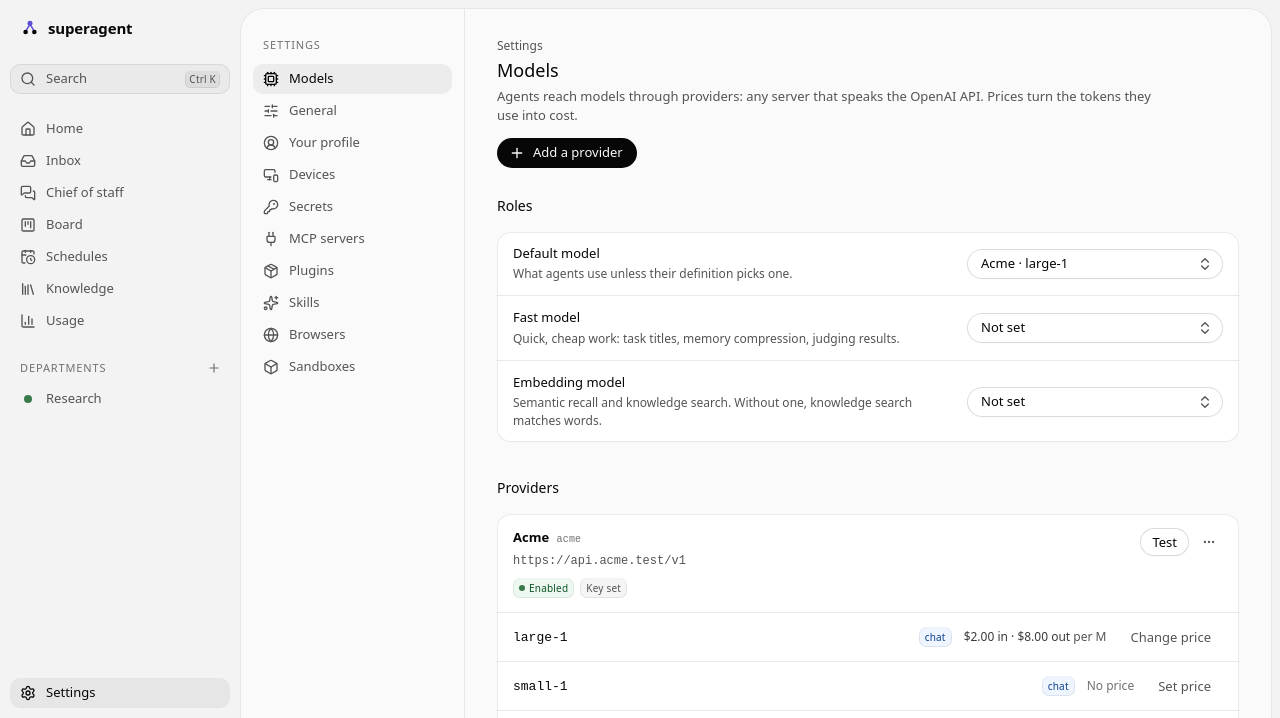
Scenario: models › removes a price, and each model’s dialog starts from its own price
Step 1. Click the button with aria-label "Change price of large-1" → {"x": 1171, "y": 637}, box x1=1118 y1=623 x2=1223 y2=651
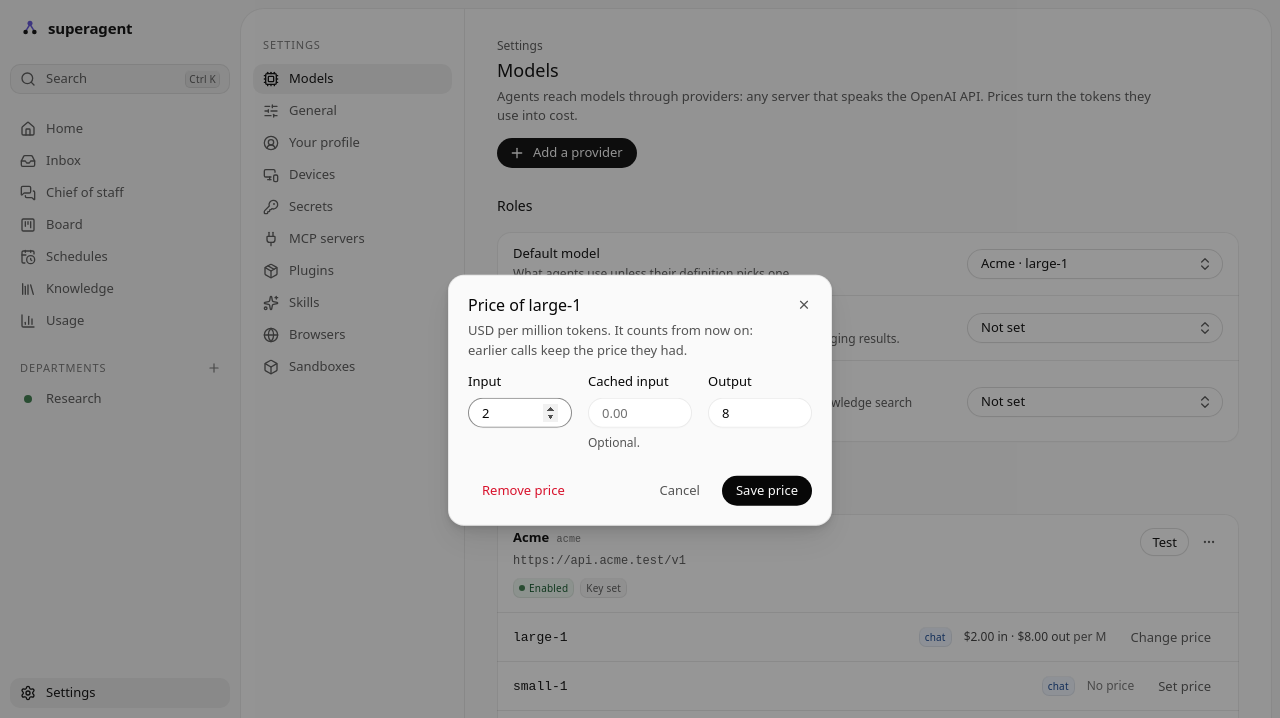
Check: the number field labelled "Input" holds "2", box x1=468 y1=397 x2=572 y2=427
Check: the number field labelled "Output" holds "8", box x1=708 y1=397 x2=812 y2=427
Step 2. Click the button "Cancel" → {"x": 680, "y": 490}, box x1=646 y1=475 x2=714 y2=505
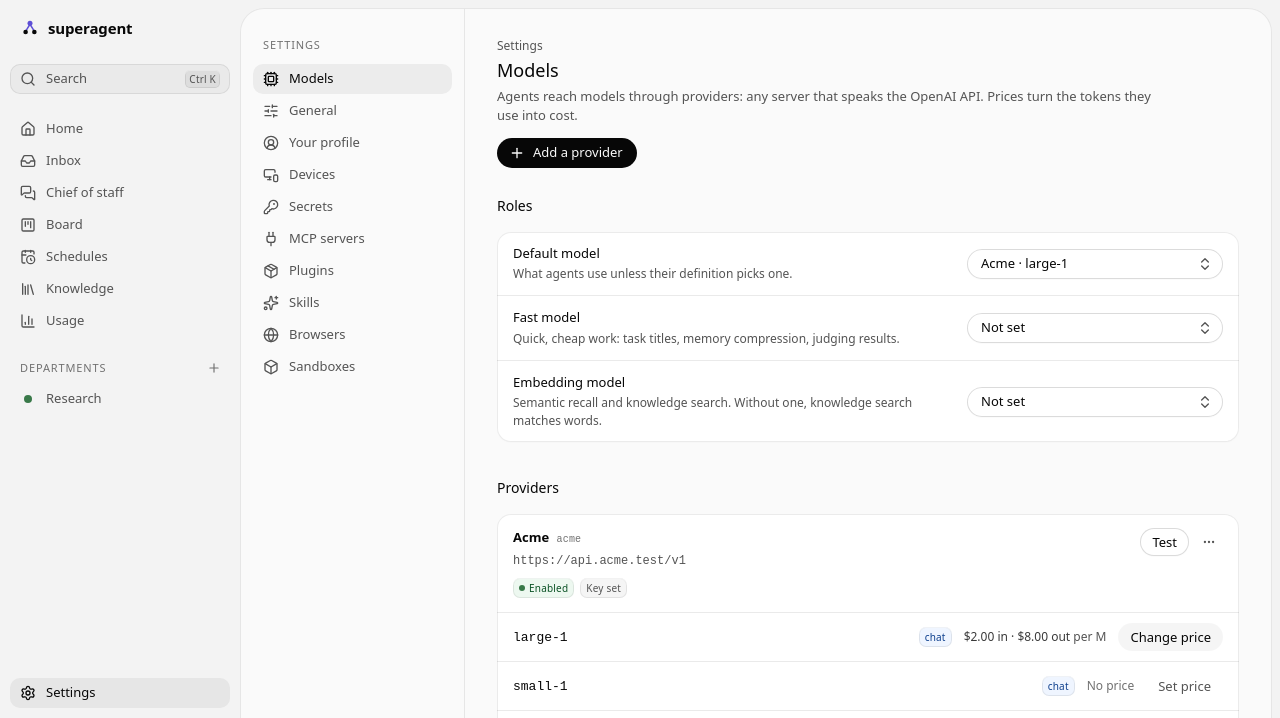
Check: the dialog is gone
Step 3. Click the button with aria-label "Set price of small-1" → {"x": 1185, "y": 686}, box x1=1146 y1=672 x2=1223 y2=700
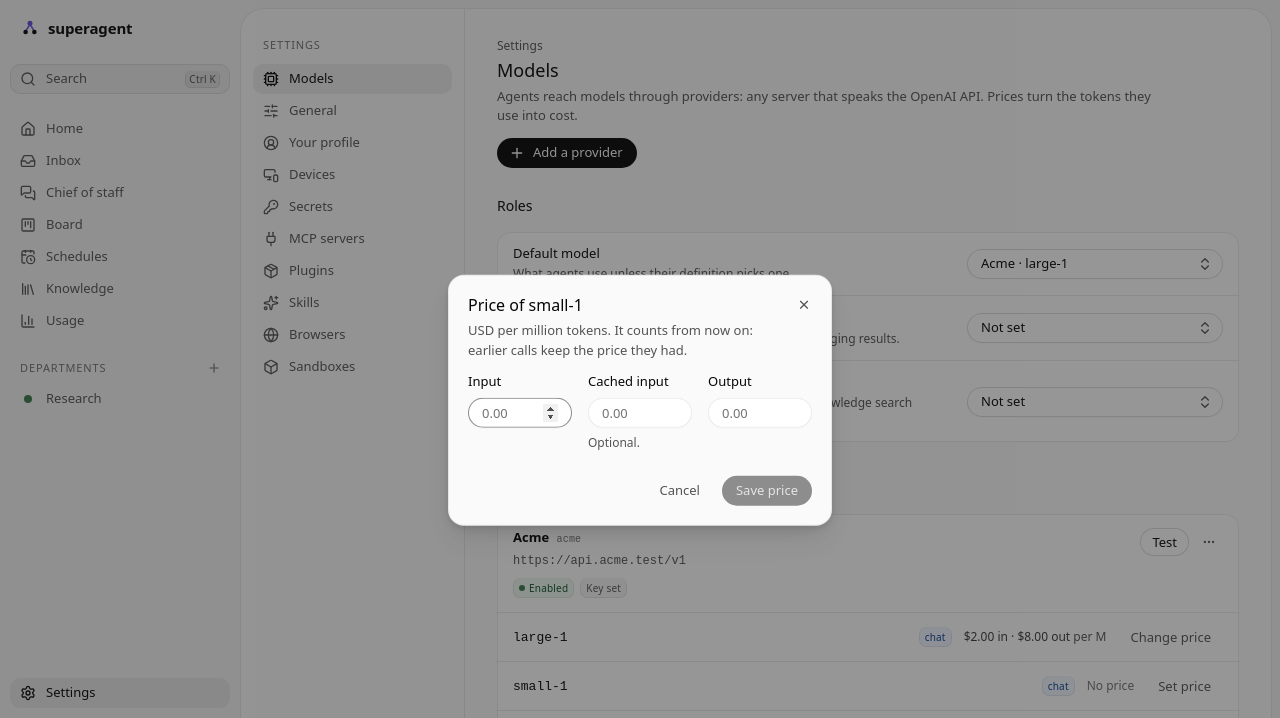
Check: the button "Remove price" is not shown
Check: the number field labelled "Input" is not empty, box x1=468 y1=397 x2=572 y2=427
Step 4. Click the button "Cancel" → {"x": 680, "y": 490}, box x1=646 y1=475 x2=714 y2=505
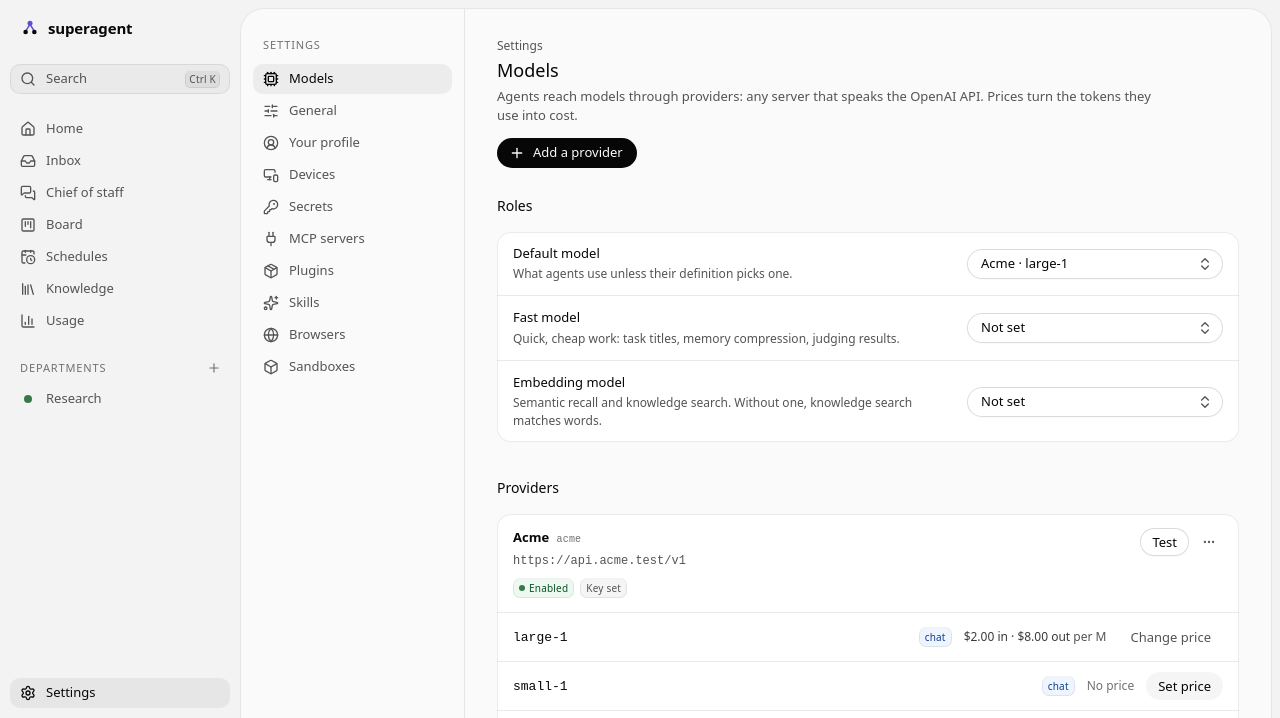
Check: the dialog is gone
Step 5. Click the button with aria-label "Change price of large-1" → {"x": 1171, "y": 637}, box x1=1118 y1=623 x2=1223 y2=651
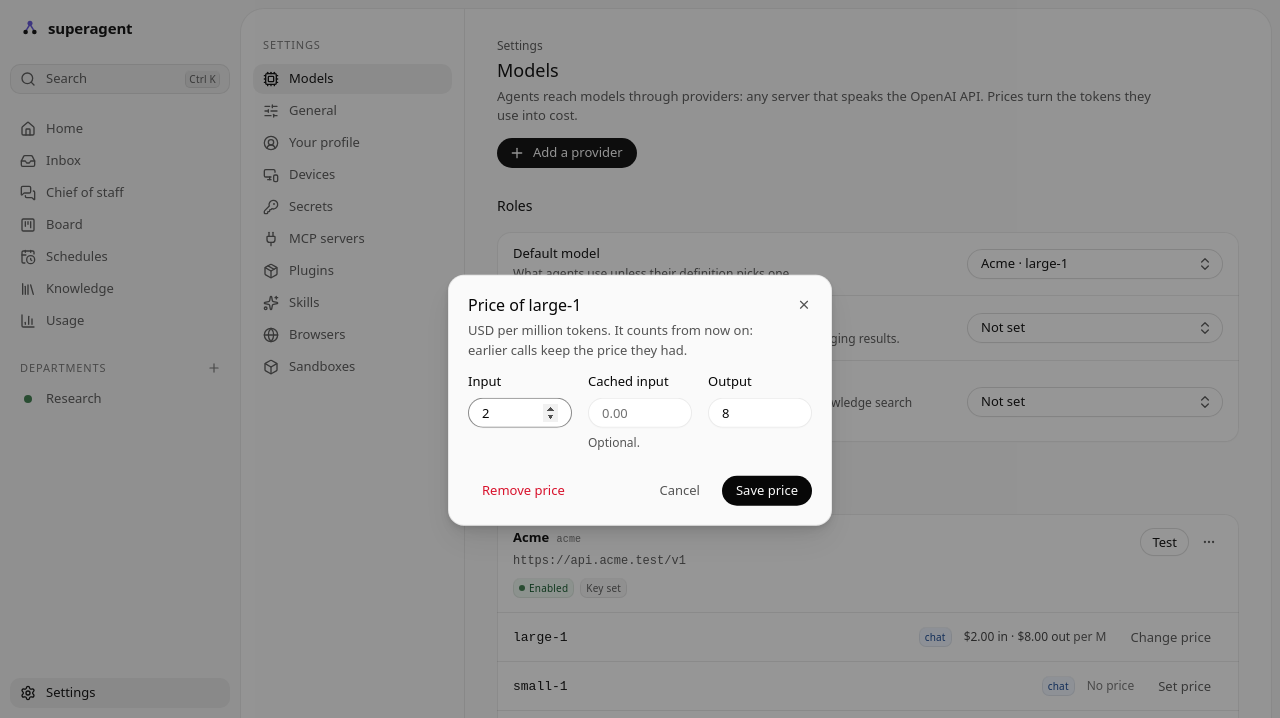
Step 6. Click the button "Remove price" → {"x": 523, "y": 490}, box x1=468 y1=475 x2=579 y2=505
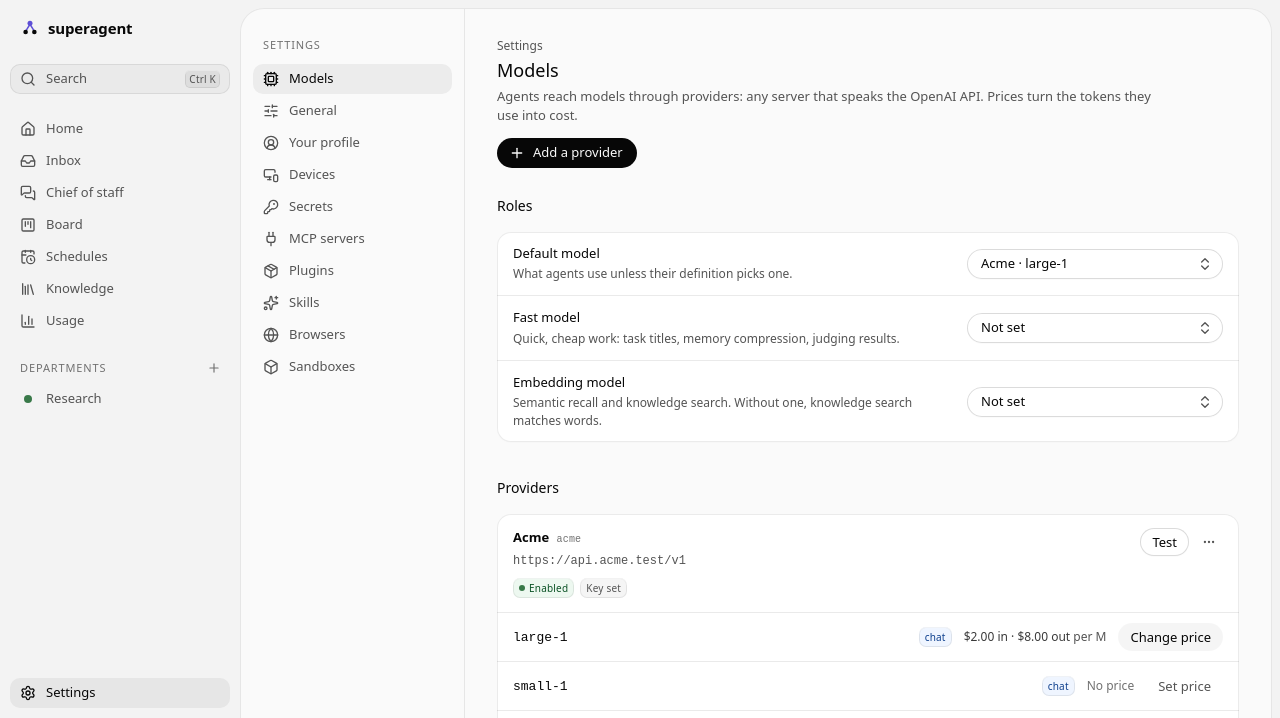
Check: the dialog is gone
